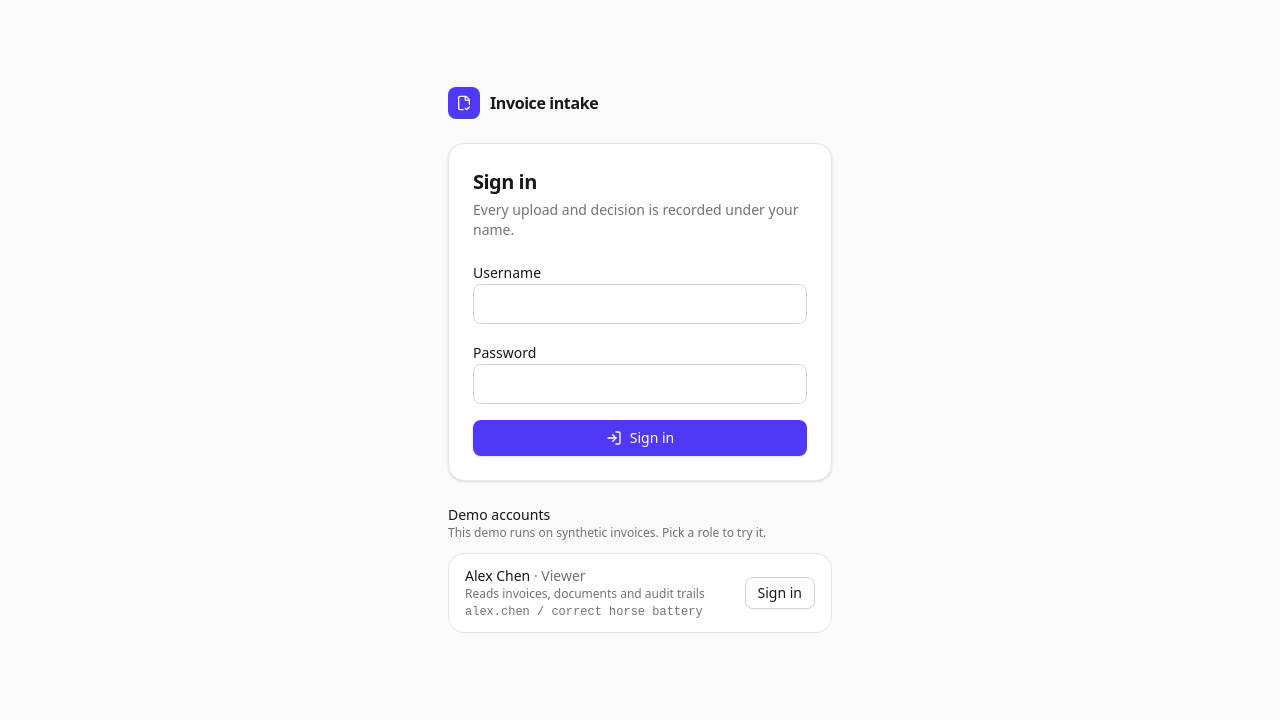
Scenario: signing in › offers the demo accounts when the server lists them
Step 1. Click the button with aria-label "Sign in as Alex Chen (Viewer)" → click(780, 593), box x1=744 y1=577 x2=815 y2=609
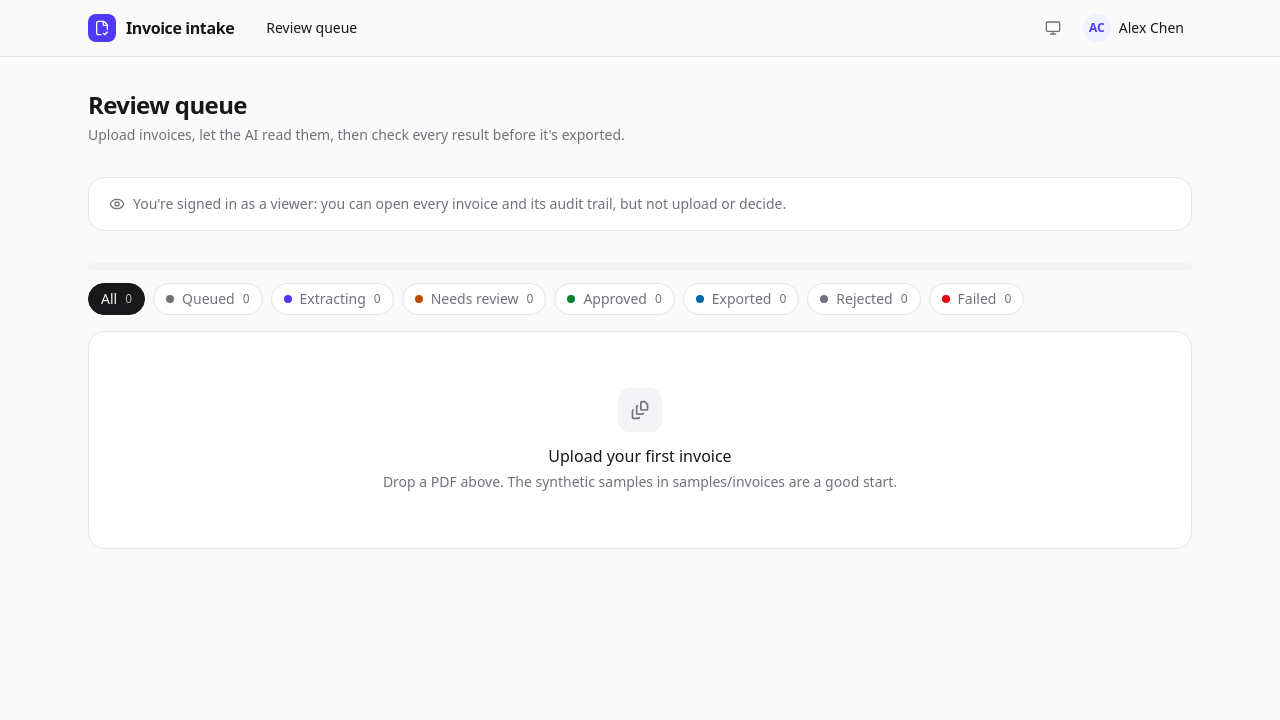
Now the button with aria-label "Signed in as Alex Chen (Viewer)" is shown, box x1=1075 y1=10 x2=1192 y2=46
